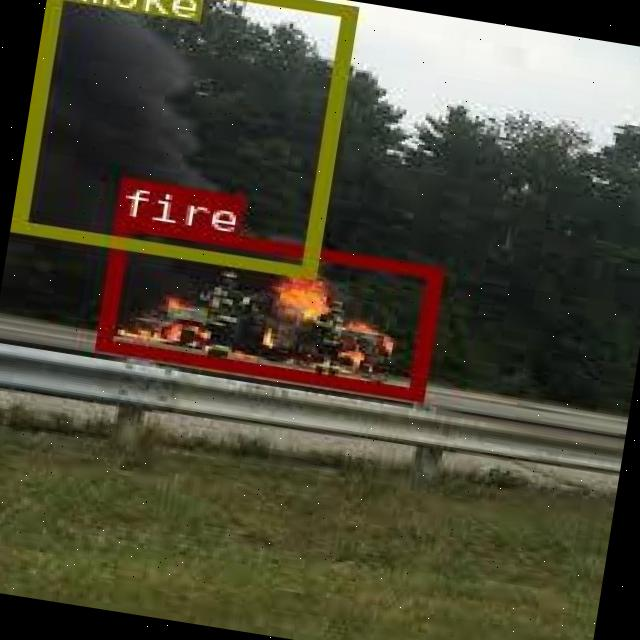fire: (94, 214, 442, 398)
smoke: (10, 0, 356, 276)
